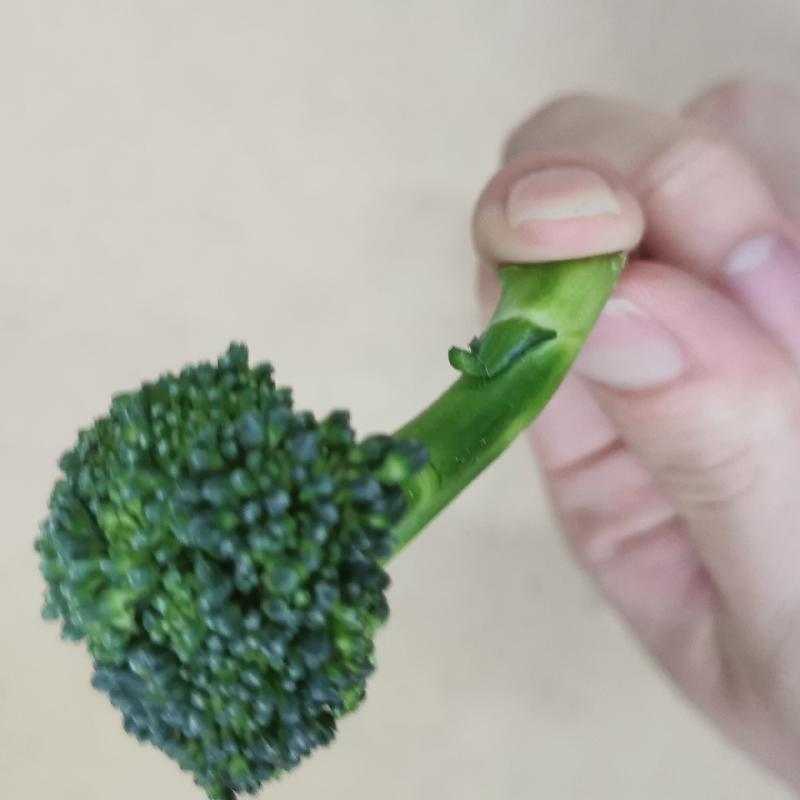broccoli: (22, 248, 674, 800)
